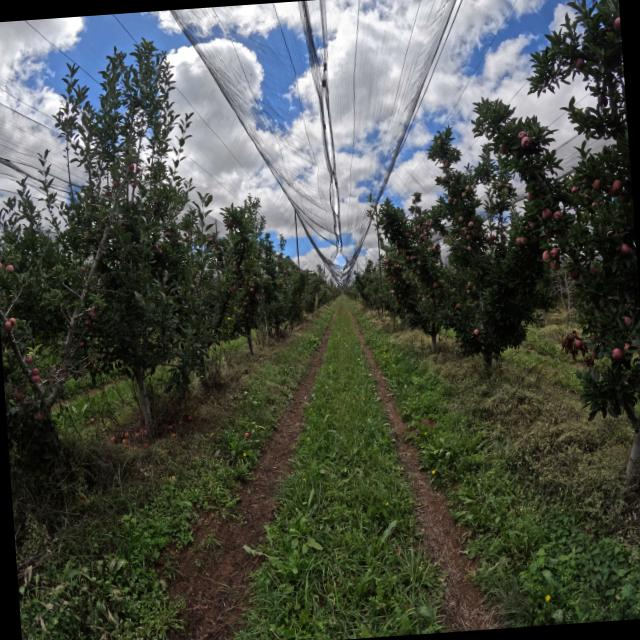-FireBlight-: (561, 330, 588, 359), (584, 356, 594, 365)
